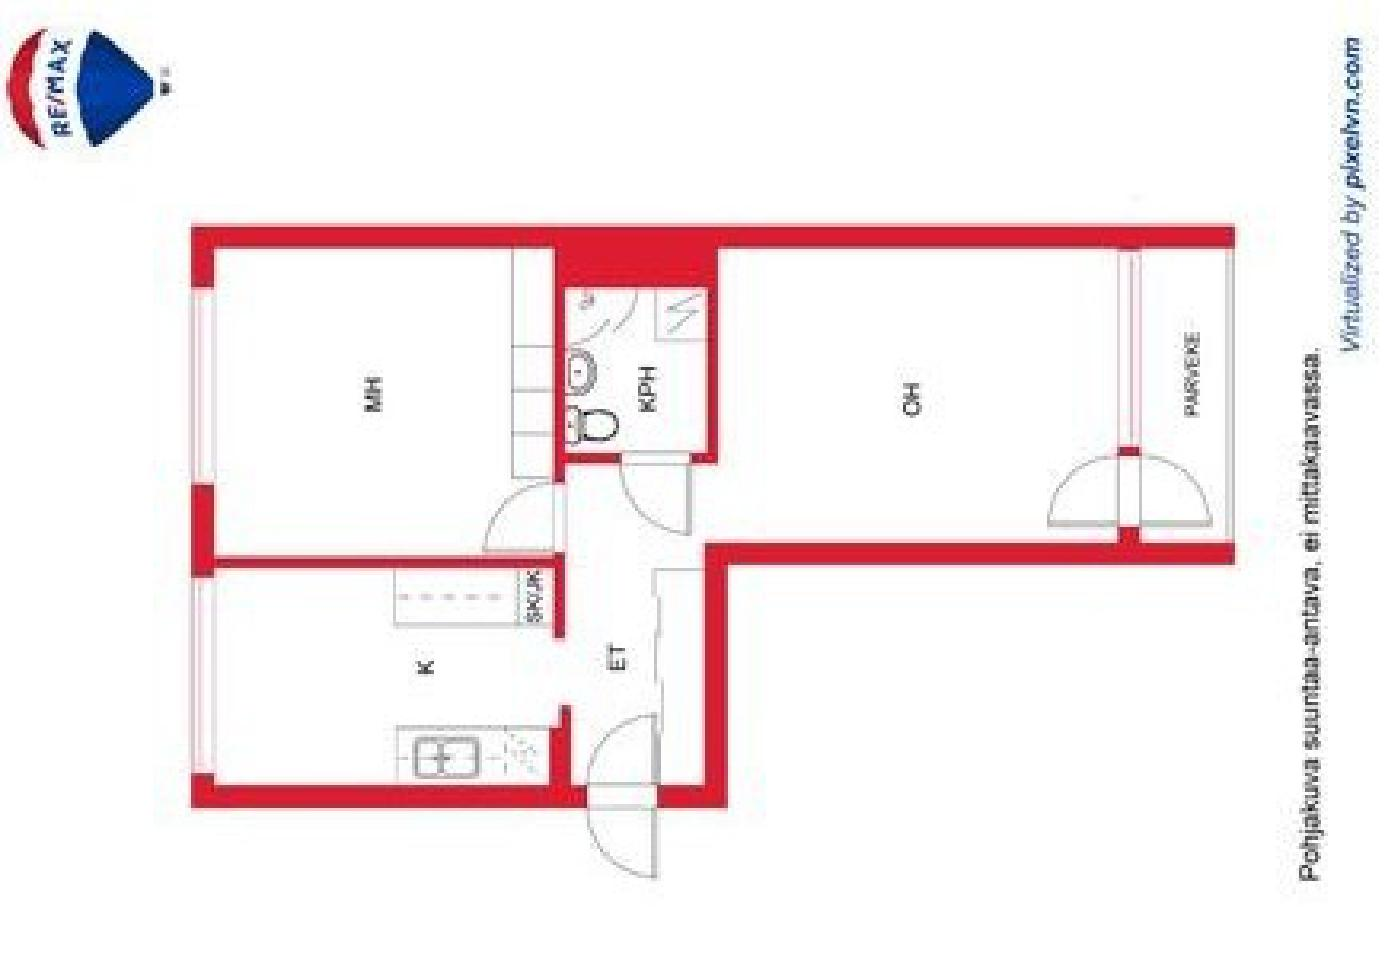door: (582, 712, 674, 886), (1045, 455, 1216, 538), (615, 449, 698, 543), (481, 482, 566, 559)
window: (191, 575, 217, 772), (1121, 252, 1143, 452), (195, 286, 217, 482)
zone: (217, 246, 1121, 781), (216, 248, 556, 552), (565, 286, 708, 453)
